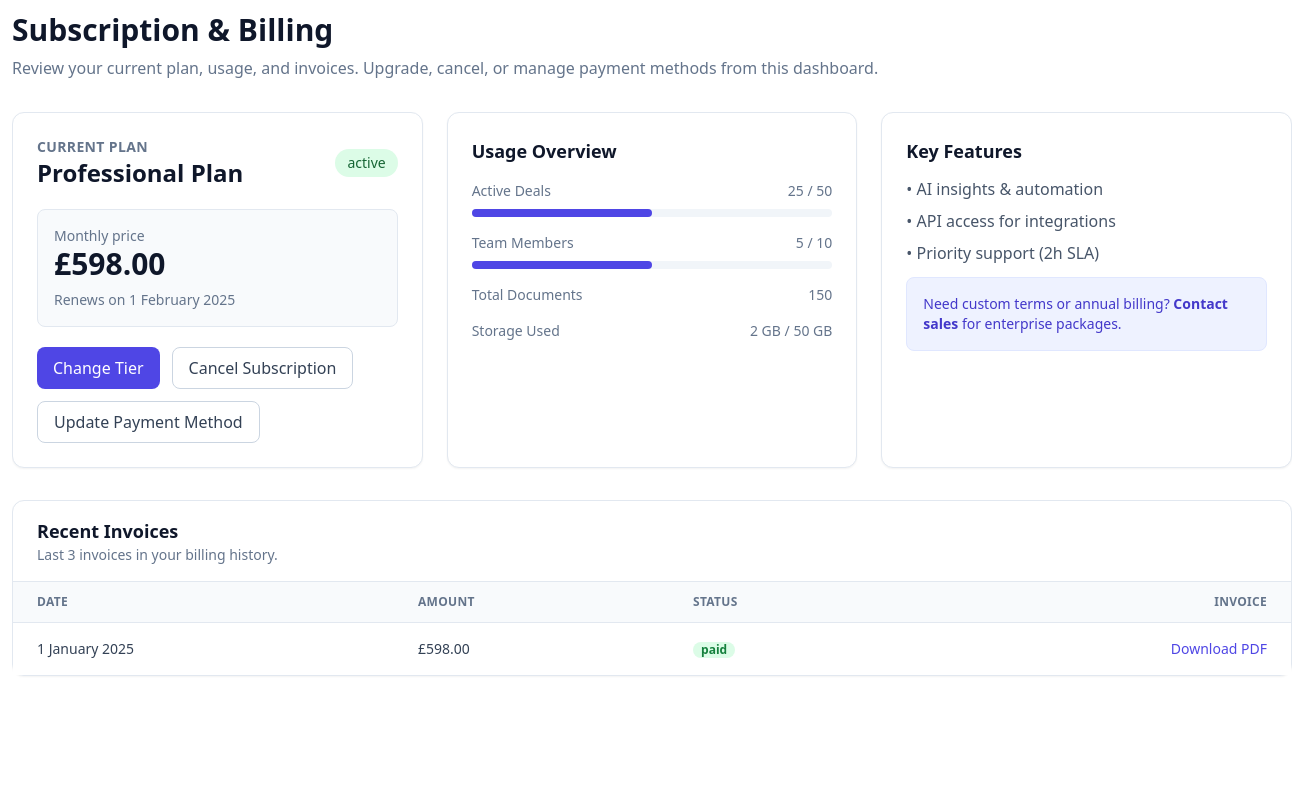
BillingDashboard › surfaces portal errors to the user
Step 1. Click the button "Update Payment Method" → (148, 422), box [37,401,260,443]
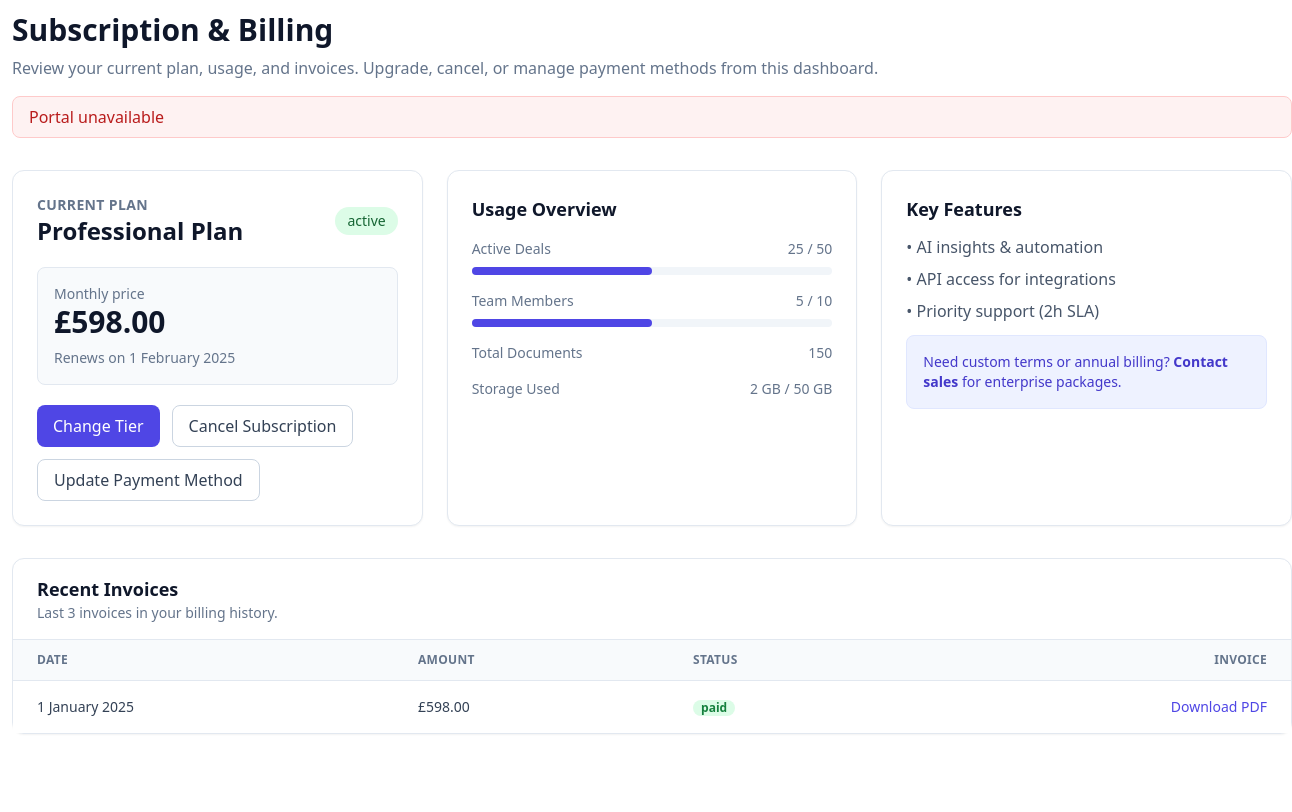
Check: the message reads "Portal unavailable", box [29,106,164,128]
